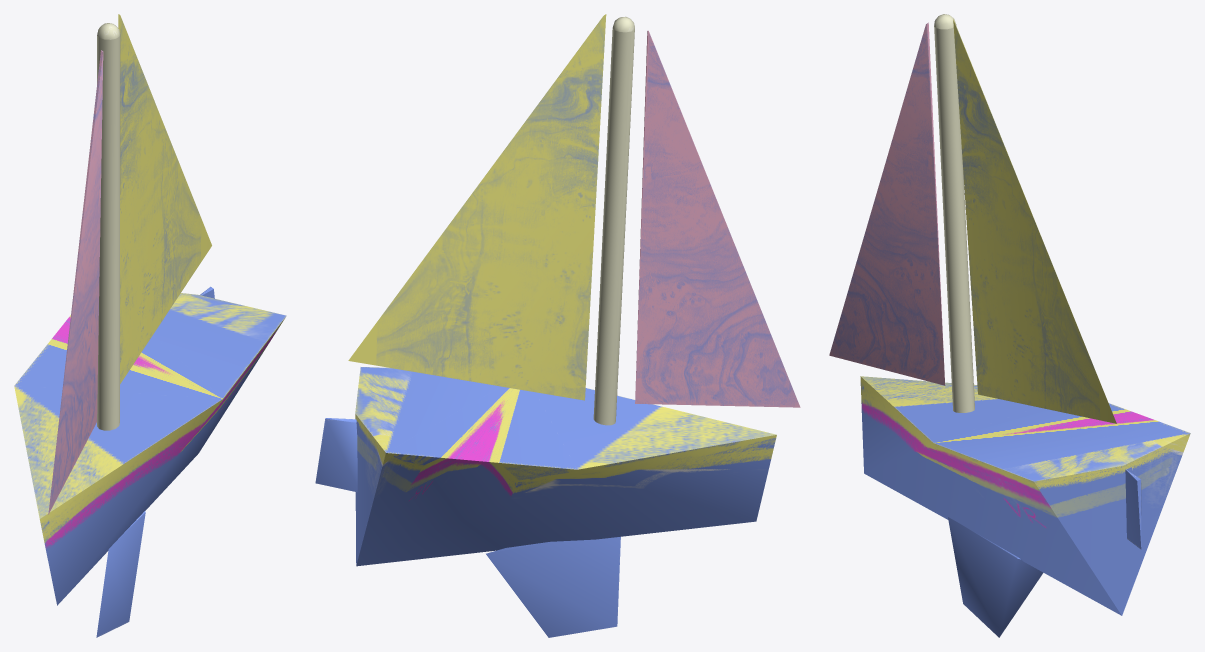
Rendered from sailboat.gltf.
3 renders of one model, left to right at view 1: azimuth 30°, elevation 25°; view 2: azimuth 150°, elevation 25°; view 3: azimuth 270°, elevation 25°, orthographic. The views are drawn at different scales.
Parts seen in each view (by area): view 1: boat_obj.003, sails_obj.001; view 2: boat_obj.003, sails_obj.001; view 3: boat_obj.003, sails_obj.001.
Part boxes in pixels (x1,y1,x2,y2): boat_obj.003: [14, 23, 286, 637]; sails_obj.001: [48, 14, 211, 514]; boat_obj.003: [315, 16, 776, 637]; sails_obj.001: [348, 14, 800, 407]; boat_obj.003: [860, 14, 1190, 637]; sails_obj.001: [829, 19, 1116, 423].
Bounding box in the file's own units: 5.25 × 9.19 × 4.99.
Materials: 6 (6 with a texture image).
